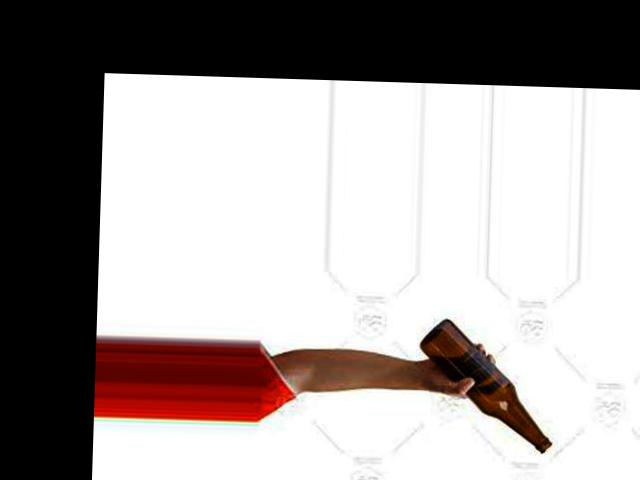beer: (416, 317, 554, 452)
